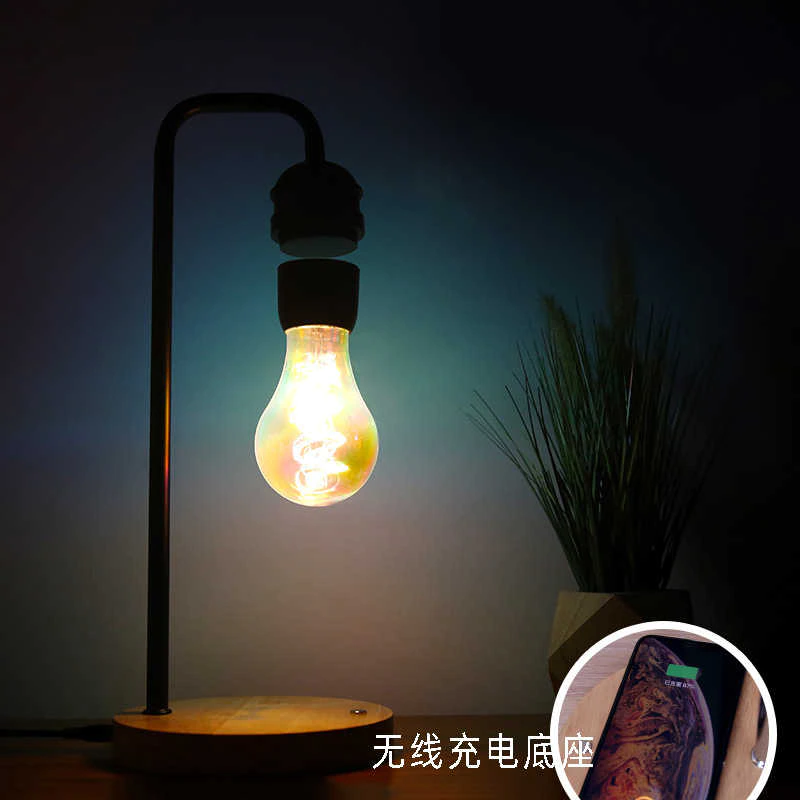bulb: (241, 261, 384, 514)
